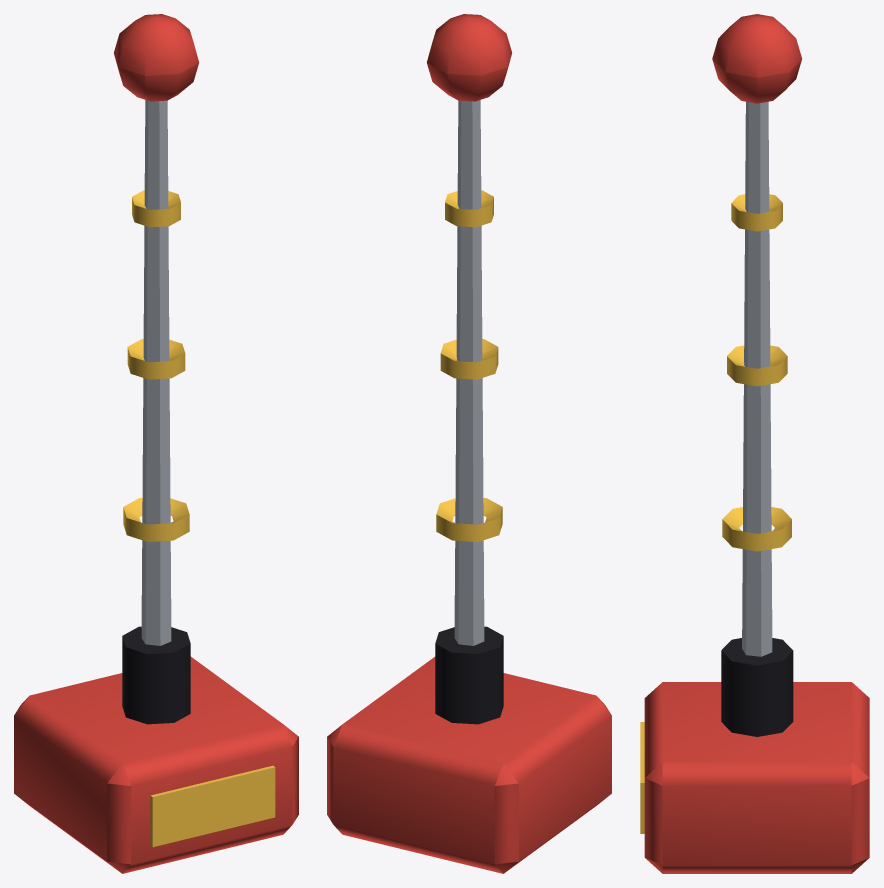
Rendered from RadioAntena.fbx.
The picture shows the model from 3 angles, left to right: view 1: azimuth 30°, elevation 25°; view 2: azimuth 150°, elevation 25°; view 3: azimuth 270°, elevation 25°; orthographic projection.
Visible parts, largest first — view 1: RadioAntena; view 2: RadioAntena; view 3: RadioAntena.
Boxes of the visible parts, x1=… form: RadioAntena: x1=14, y1=14, x2=298, y2=873; RadioAntena: x1=327, y1=14, x2=611, y2=873; RadioAntena: x1=640, y1=14, x2=869, y2=873.
Size of the model in its own units: 1 by 4 by 1.02.
Materials: 1 (1 with a texture image).
